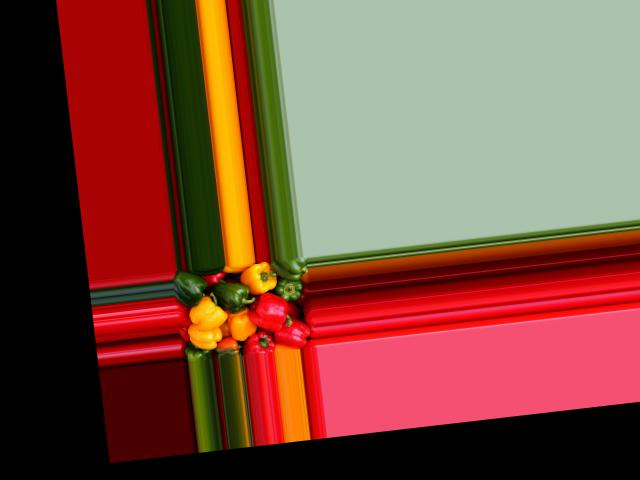bell_pepper: (185, 342, 216, 361)
